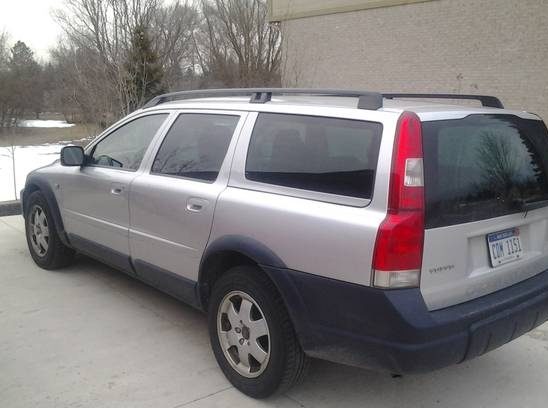volvo: (9, 67, 548, 402)
